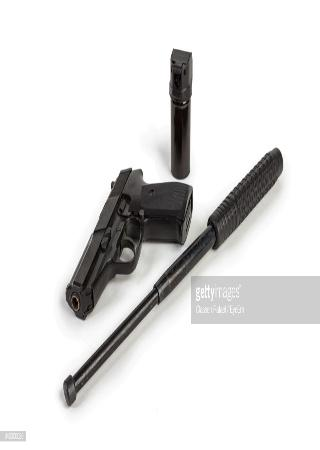weapon: (66, 167, 194, 320)
